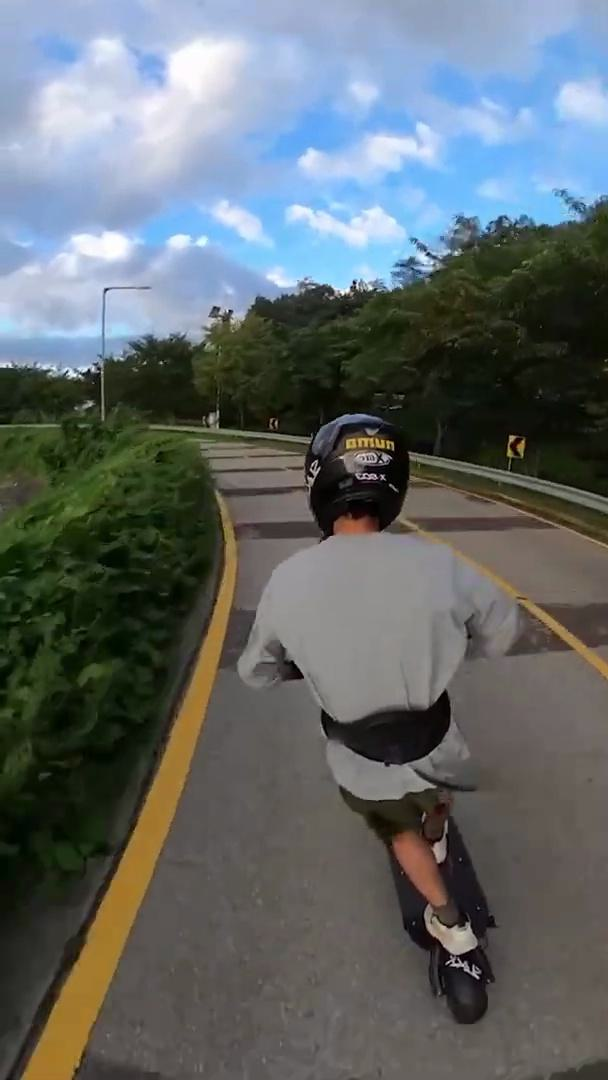helmet: (230, 409, 537, 1028)
